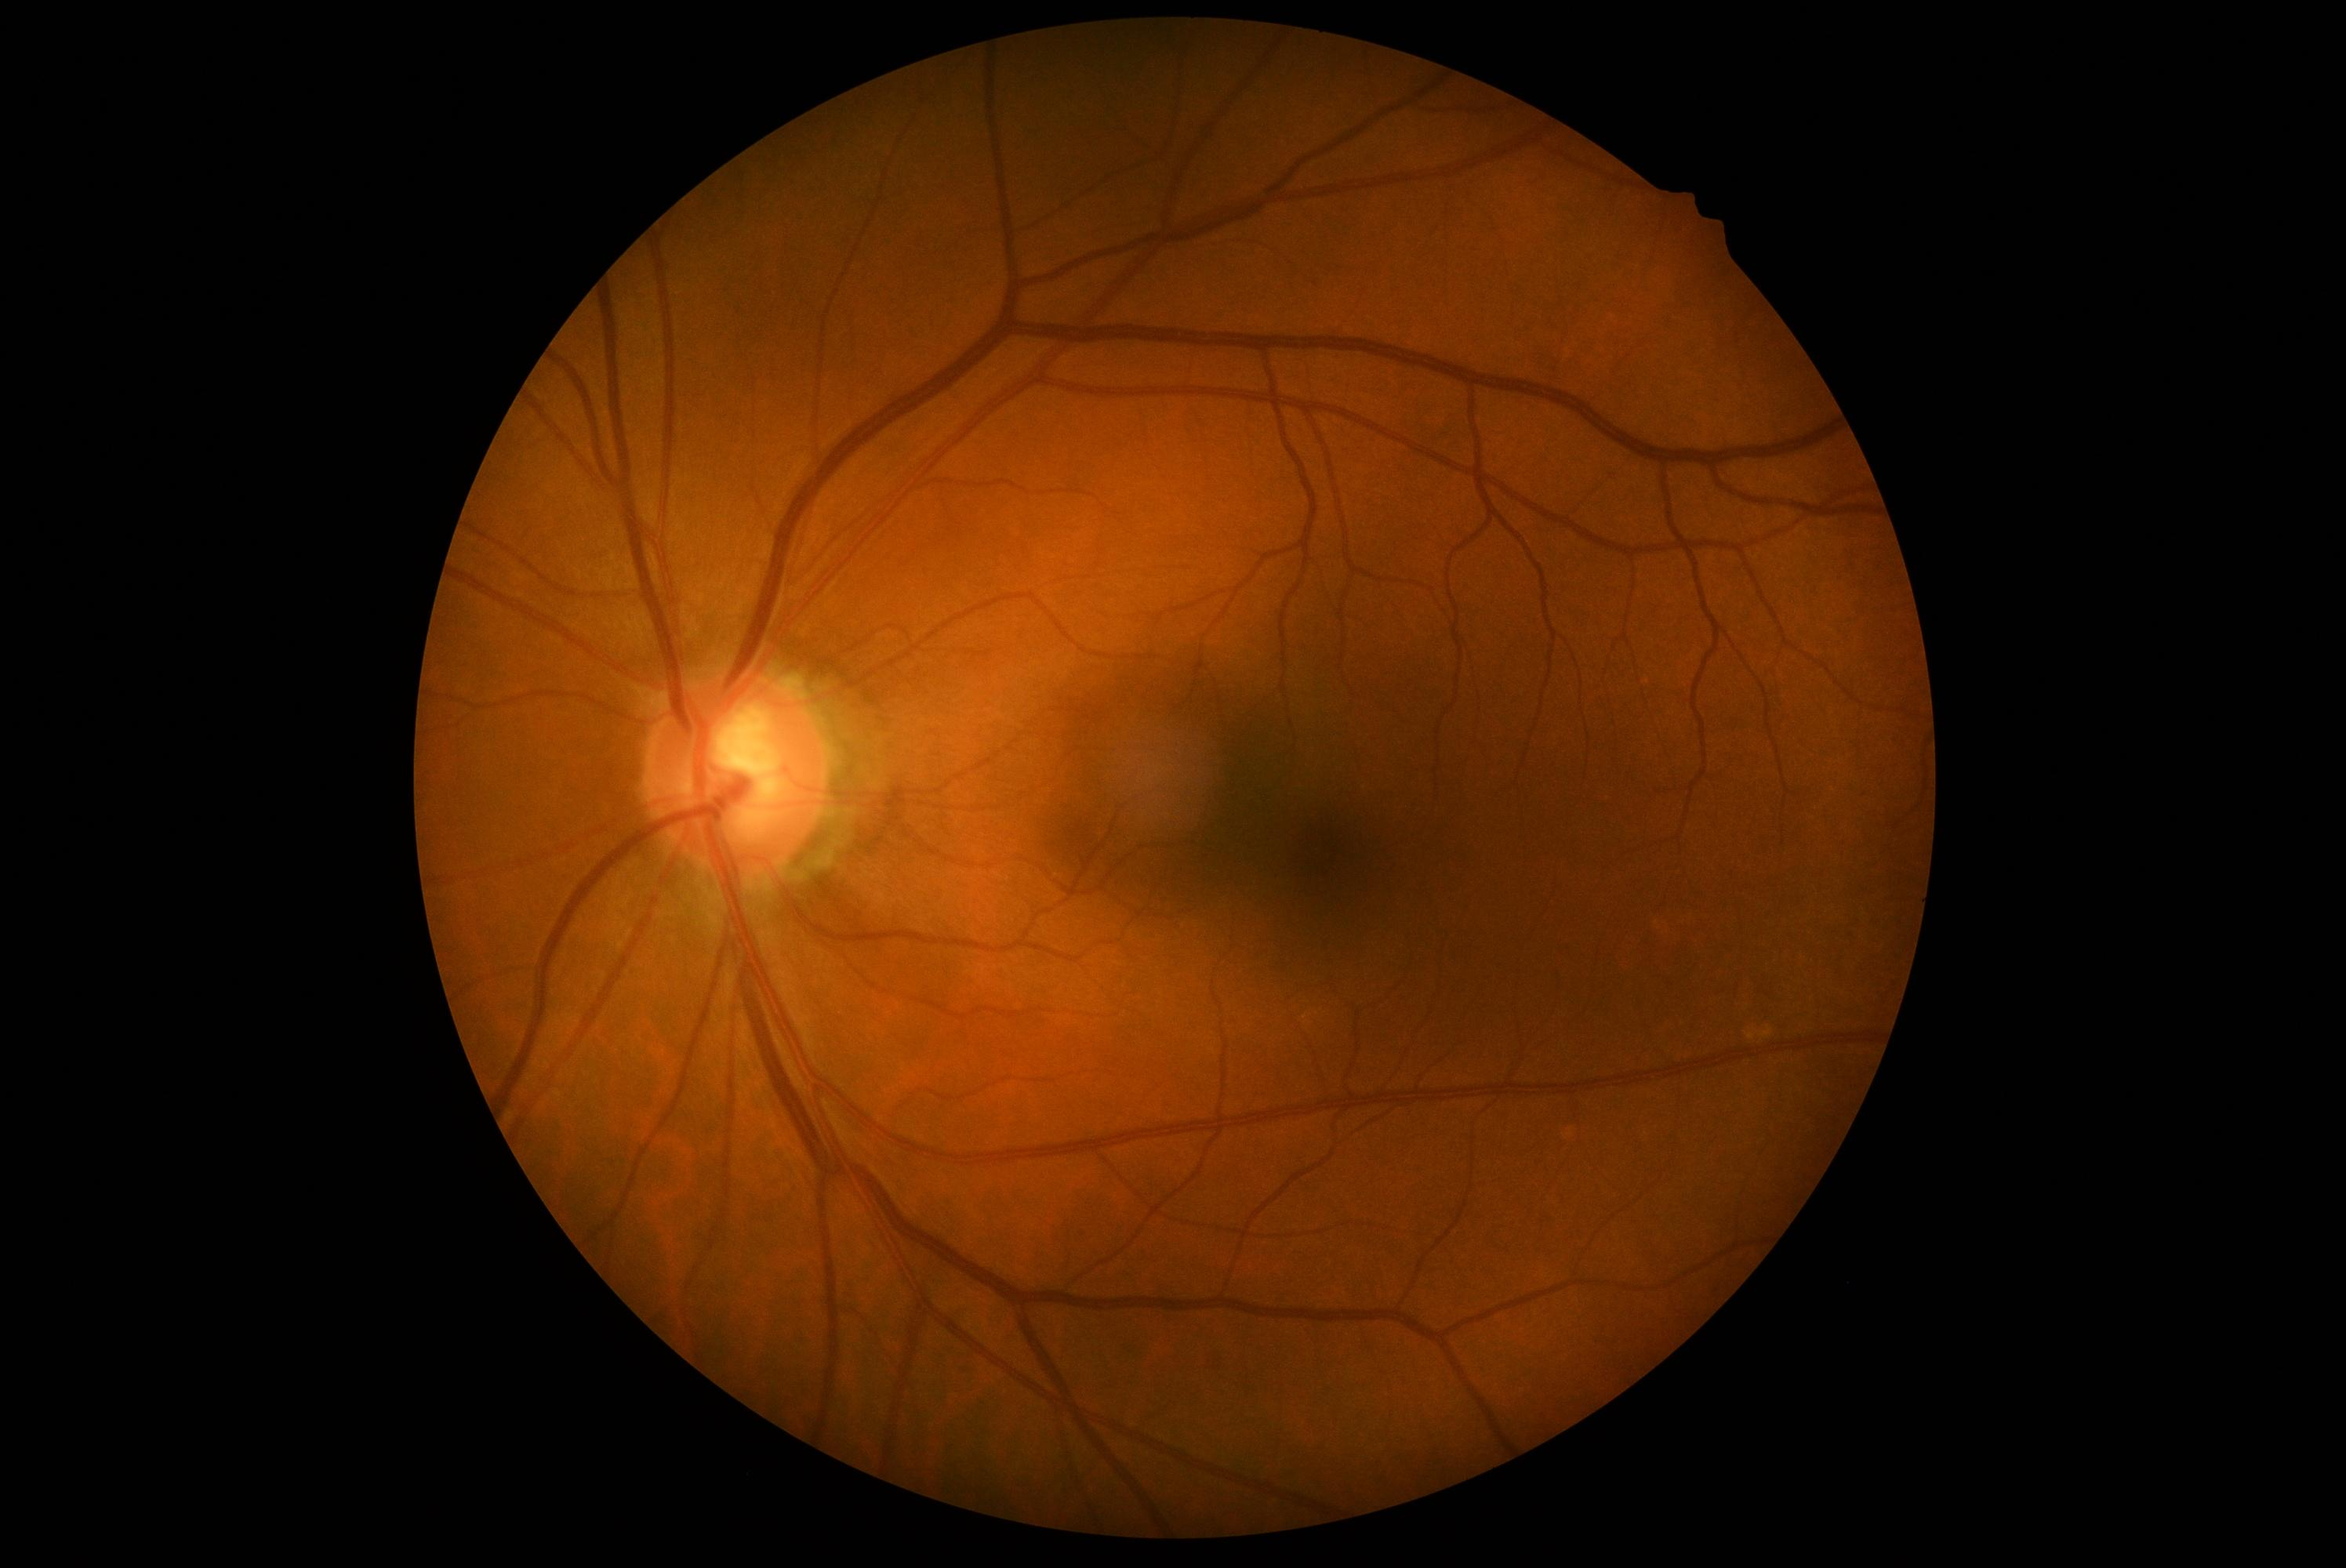Fovea: (1240, 775, 1391, 926)
